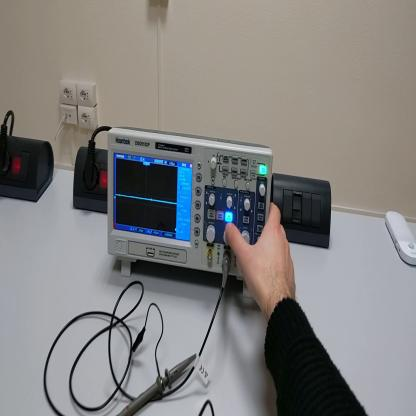hand: (226, 200, 297, 311)
oscilloscope: (109, 127, 274, 298)
oscilloscope probe tip: (118, 352, 197, 416)
socket: (1, 129, 56, 203), (74, 146, 109, 216)
